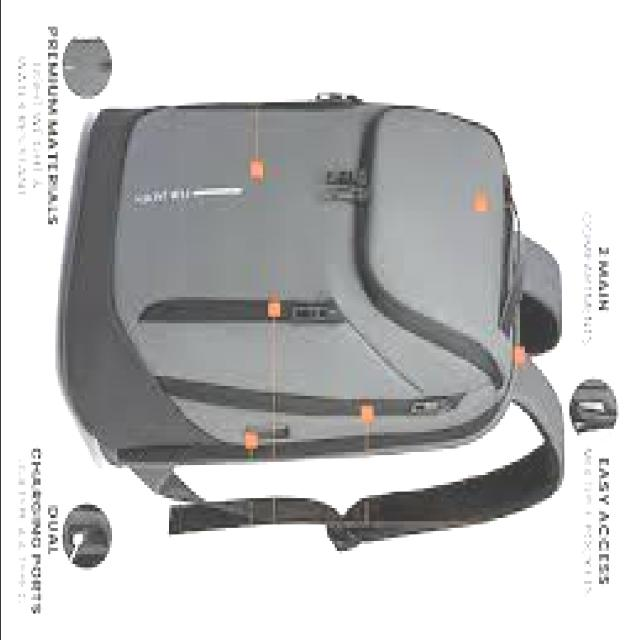backpack: (63, 90, 569, 555)
